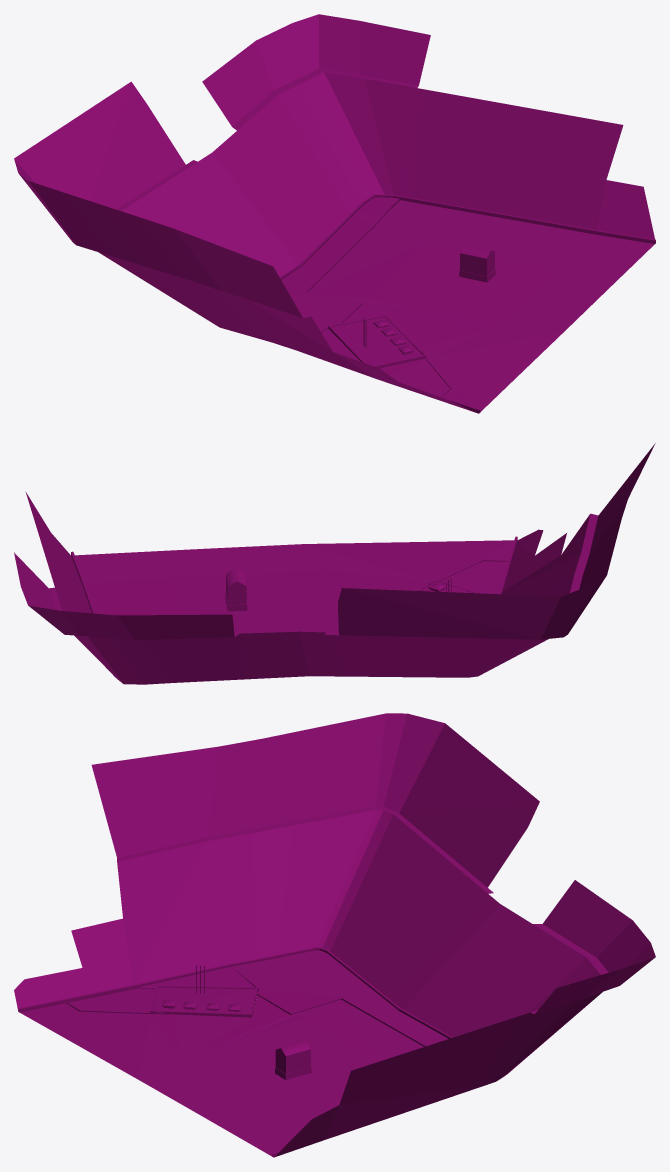
File: room4.obj
3 views of the same model, one above another, from view 1: azimuth 30°, elevation 25°; view 2: azimuth 150°, elevation 25°; view 3: azimuth 270°, elevation 25° (orthographic). The views are drawn at different scales.
Visible parts, largest first — view 1: dan; view 2: dan; view 3: dan.
Boxes of the visible parts, bbox=[...] form: dan: bbox=[14, 14, 655, 413]; dan: bbox=[14, 443, 655, 684]; dan: bbox=[14, 713, 655, 1157].
Size of the model in its own units: 87.75 by 23.9 by 83.57.
